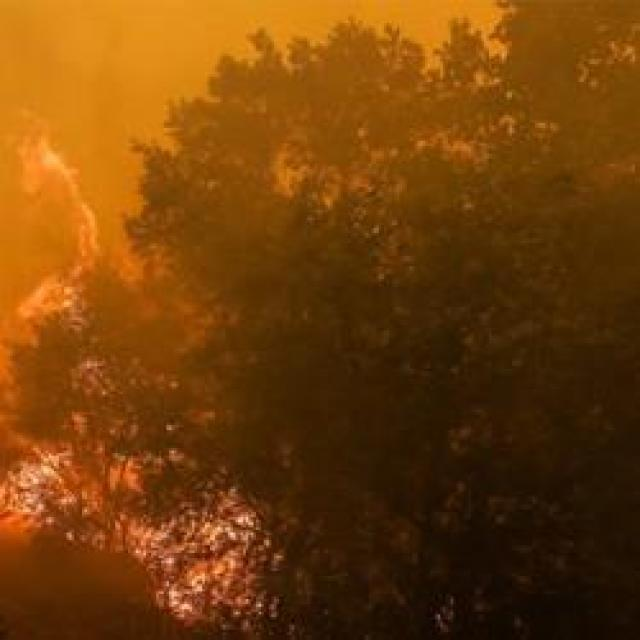Fire: (0, 422, 293, 640)
